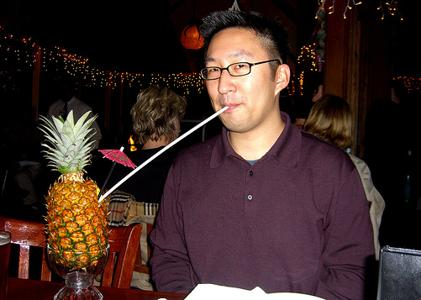person: (145, 7, 376, 300)
